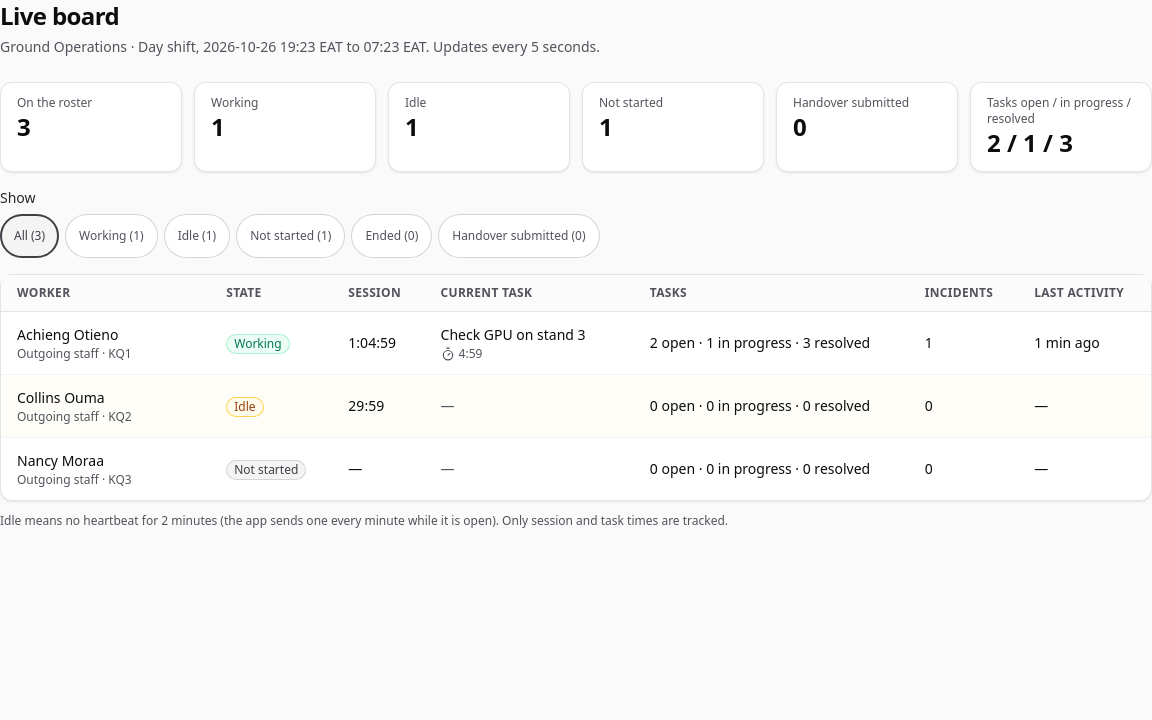
Test: live board › a row opens the worker detail: tasks with time spent and the timeline
The image size is (1152, 720).
Click the row named "Achieng Otieno, Working. Open details" at point(576, 343), box [1,312,1151,374]
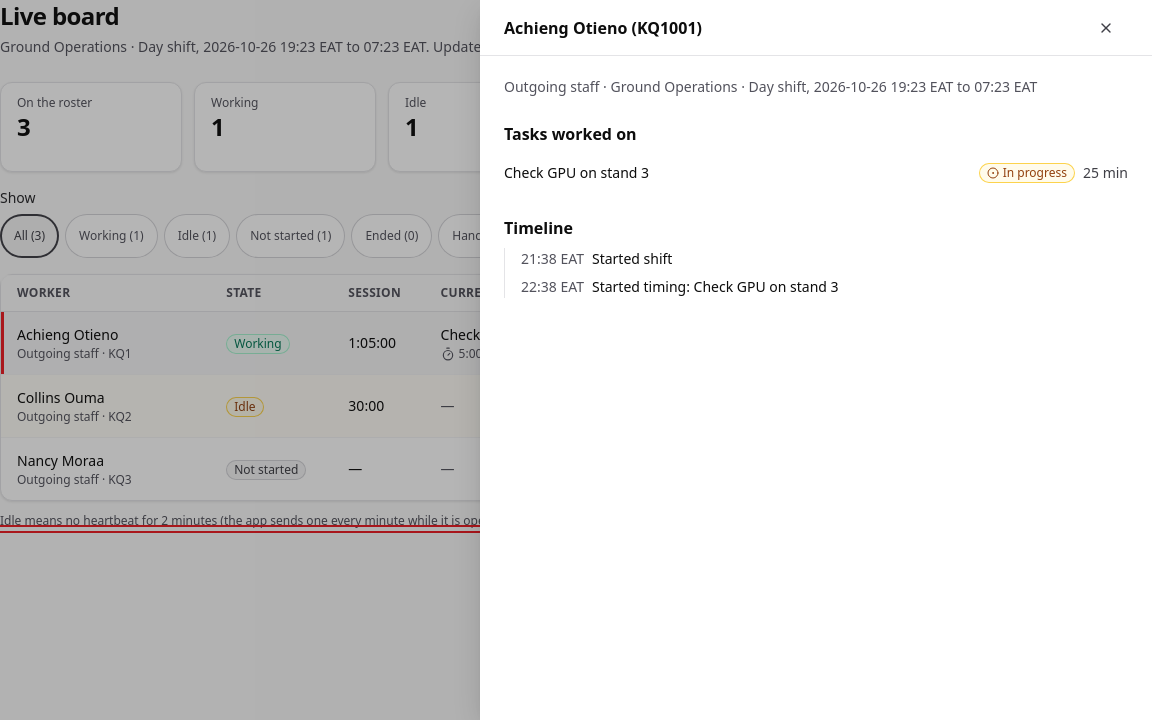
Now the heading "Achieng Otieno (KQ1001)" is shown, box [504,16,702,40]
Now the text "25 min" is shown, box [1083,162,1128,184]
Now the list item "Started shift" is shown, box [592,249,672,268]
